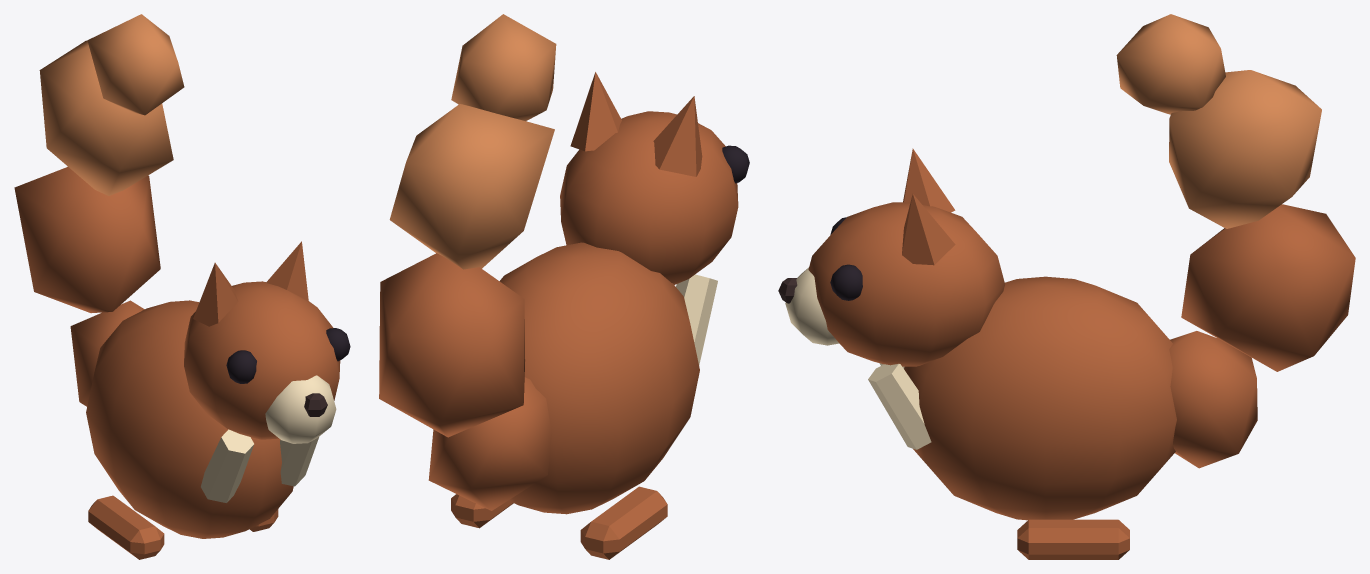
The model's file is critter_squirrel.glb.
3 views of the same model, side by side, from view 1: azimuth 30°, elevation 25°; view 2: azimuth 150°, elevation 25°; view 3: azimuth 270°, elevation 25° (orthographic). The views are drawn at different scales.
Parts seen in each view (by area): view 1: critter_squirrel; view 2: critter_squirrel; view 3: critter_squirrel.
Boxes of the visible parts, x1,y1,x2,y2 form: critter_squirrel: (14,14,350,559); critter_squirrel: (379,14,749,559); critter_squirrel: (778,14,1355,559).
Bounding box in the file's own units: 0.153 × 0.4031 × 0.4104.
